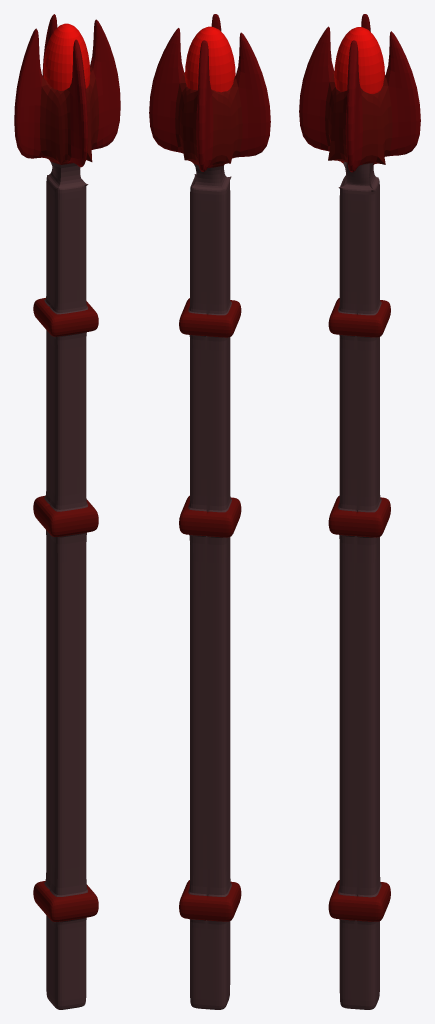
File: StaffMage.fbx
The picture shows the model from 3 angles, left to right: view 1: azimuth 90°, elevation 25°; view 2: azimuth 150°, elevation 25°; view 3: azimuth 330°, elevation 25°; orthographic projection.
Parts seen in each view (by area): view 1: Cube; view 2: Cube; view 3: Cube.
Part boxes in pixels (x1,y1,x2,y2): Cube: (14, 14, 120, 1009); Cube: (149, 14, 270, 1009); Cube: (299, 14, 420, 1009).
Bounding box in the file's own units: 46.7 × 433 × 42.71.
